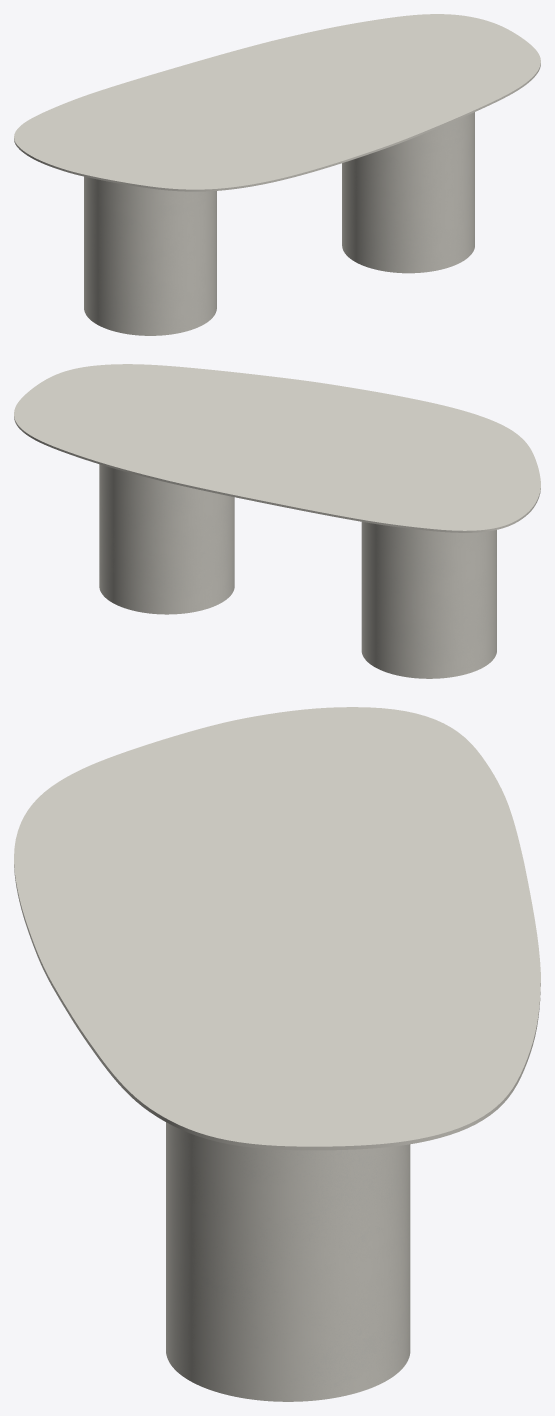
The model's file is pale_leaf2_facet_stream.glb.
3 views of the same model, one above another, from view 1: azimuth 30°, elevation 25°; view 2: azimuth 150°, elevation 25°; view 3: azimuth 270°, elevation 25° (orthographic). The views are drawn at different scales.
Parts seen in each view (by area): view 1: facet_leaf2, stream; view 2: facet_leaf2, stream; view 3: facet_leaf2, stream.
Boxes of the visible parts, x1,y1,x2,y2 form: facet_leaf2: (14, 14, 540, 191); stream: (84, 112, 474, 335); facet_leaf2: (14, 364, 540, 532); stream: (99, 464, 496, 678); facet_leaf2: (14, 707, 540, 1150); stream: (166, 1122, 410, 1401).
Size of the model in its own units: 7.5 by 2.5 by 3.8.
Materials: 1 (1 with a texture image).
